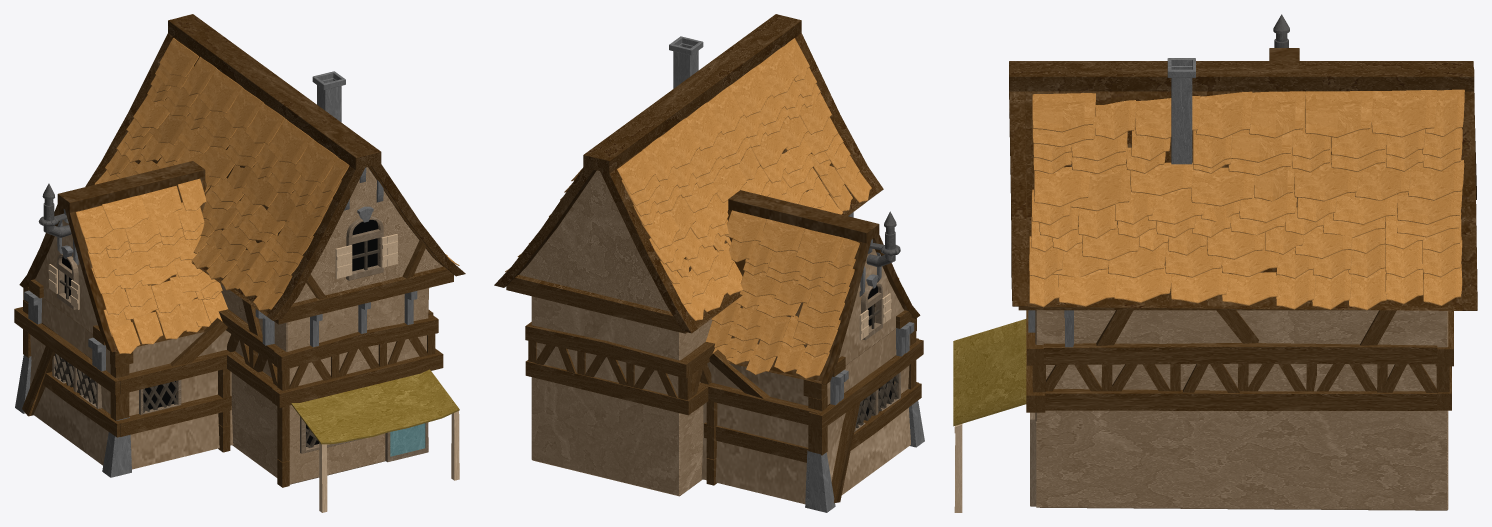
Rendered from GrannysHouse.fbx.
3 views of the same model, side by side, from view 1: azimuth 30°, elevation 25°; view 2: azimuth 150°, elevation 25°; view 3: azimuth 270°, elevation 25° (orthographic). The views are drawn at different scales.
Parts seen in each view (by area): view 1: GrannysHouse, GrannysHouse_Door; view 2: GrannysHouse; view 3: GrannysHouse.
Boxes of the visible parts, box(x1,y1,x2,y2) form: GrannysHouse: box(14, 14, 465, 512); GrannysHouse_Door: box(390, 423, 425, 456); GrannysHouse: box(494, 14, 924, 512); GrannysHouse: box(953, 14, 1477, 512).
Size of the model in its own units: 1173 by 1205 by 1347.
